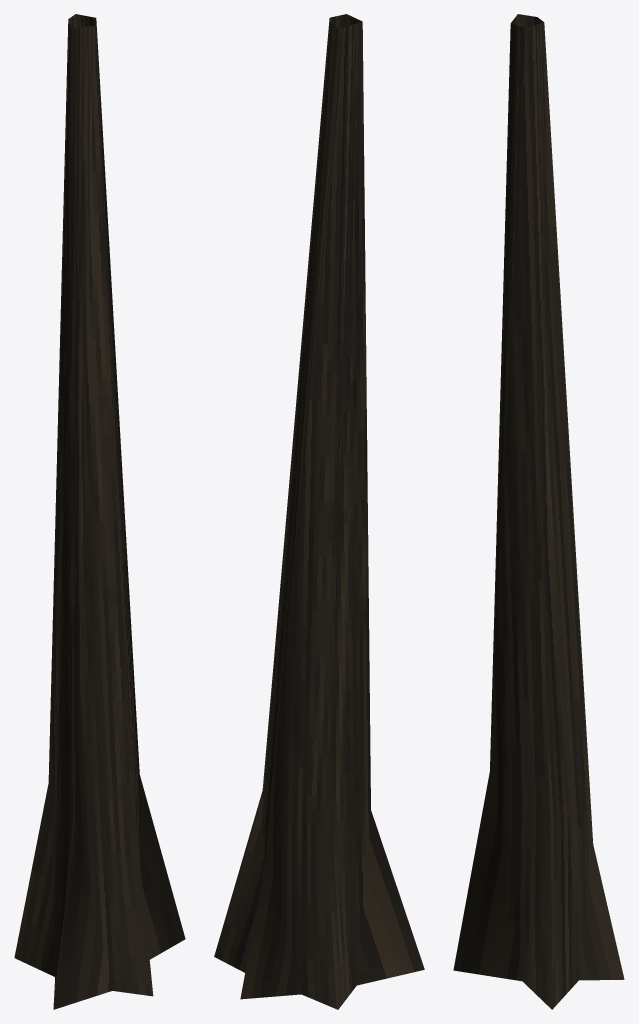
Rendered from toplessTree.fbx.
3 views of the same model, side by side, from view 1: azimuth 30°, elevation 25°; view 2: azimuth 150°, elevation 25°; view 3: azimuth 270°, elevation 25° (orthographic). The views are drawn at different scales.
Parts seen in each view (by area): view 1: pCylinder1; view 2: pCylinder1; view 3: pCylinder1.
Part boxes in pixels (bbox=[...]): pCylinder1: bbox=[14, 14, 185, 1009]; pCylinder1: bbox=[214, 14, 424, 1009]; pCylinder1: bbox=[453, 14, 624, 1009].
Size of the model in its own units: 4.04 by 21.52 by 3.58.
